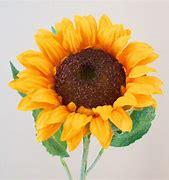sunflowers: (9, 8, 164, 149)
